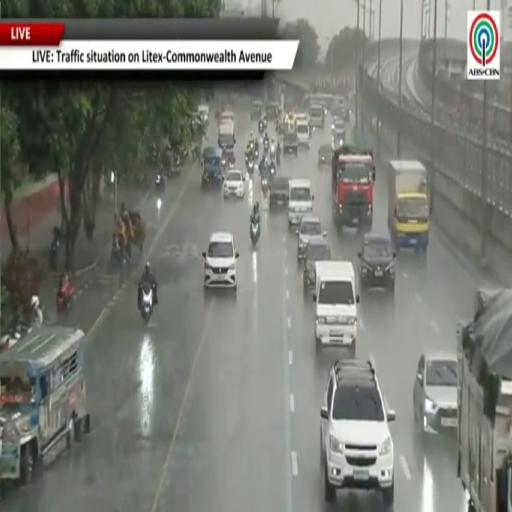bus: (0, 326, 89, 484)
car: (321, 360, 395, 509), (414, 351, 457, 434), (358, 232, 396, 293), (203, 232, 239, 291), (303, 237, 331, 293), (296, 216, 326, 261), (269, 175, 288, 210), (224, 169, 245, 198), (283, 132, 298, 156), (318, 144, 332, 166), (332, 128, 345, 150), (265, 102, 280, 121), (331, 118, 345, 134), (251, 101, 262, 120)
motorcycle: (56, 283, 74, 315), (49, 227, 62, 271), (140, 286, 152, 324), (31, 296, 43, 326), (49, 238, 59, 271), (250, 220, 260, 246), (155, 172, 165, 193), (246, 155, 254, 177), (261, 175, 269, 195), (268, 162, 275, 179), (262, 116, 268, 130), (264, 139, 269, 155), (258, 121, 264, 134), (254, 146, 259, 161), (270, 146, 275, 159), (276, 151, 280, 165)
truck: (457, 290, 511, 511), (388, 160, 429, 250), (332, 144, 375, 229)
